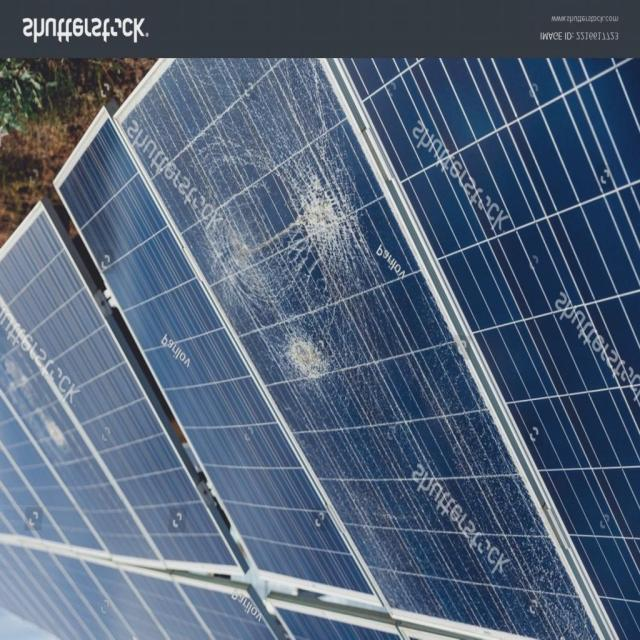cracked: (115, 58, 597, 636)
